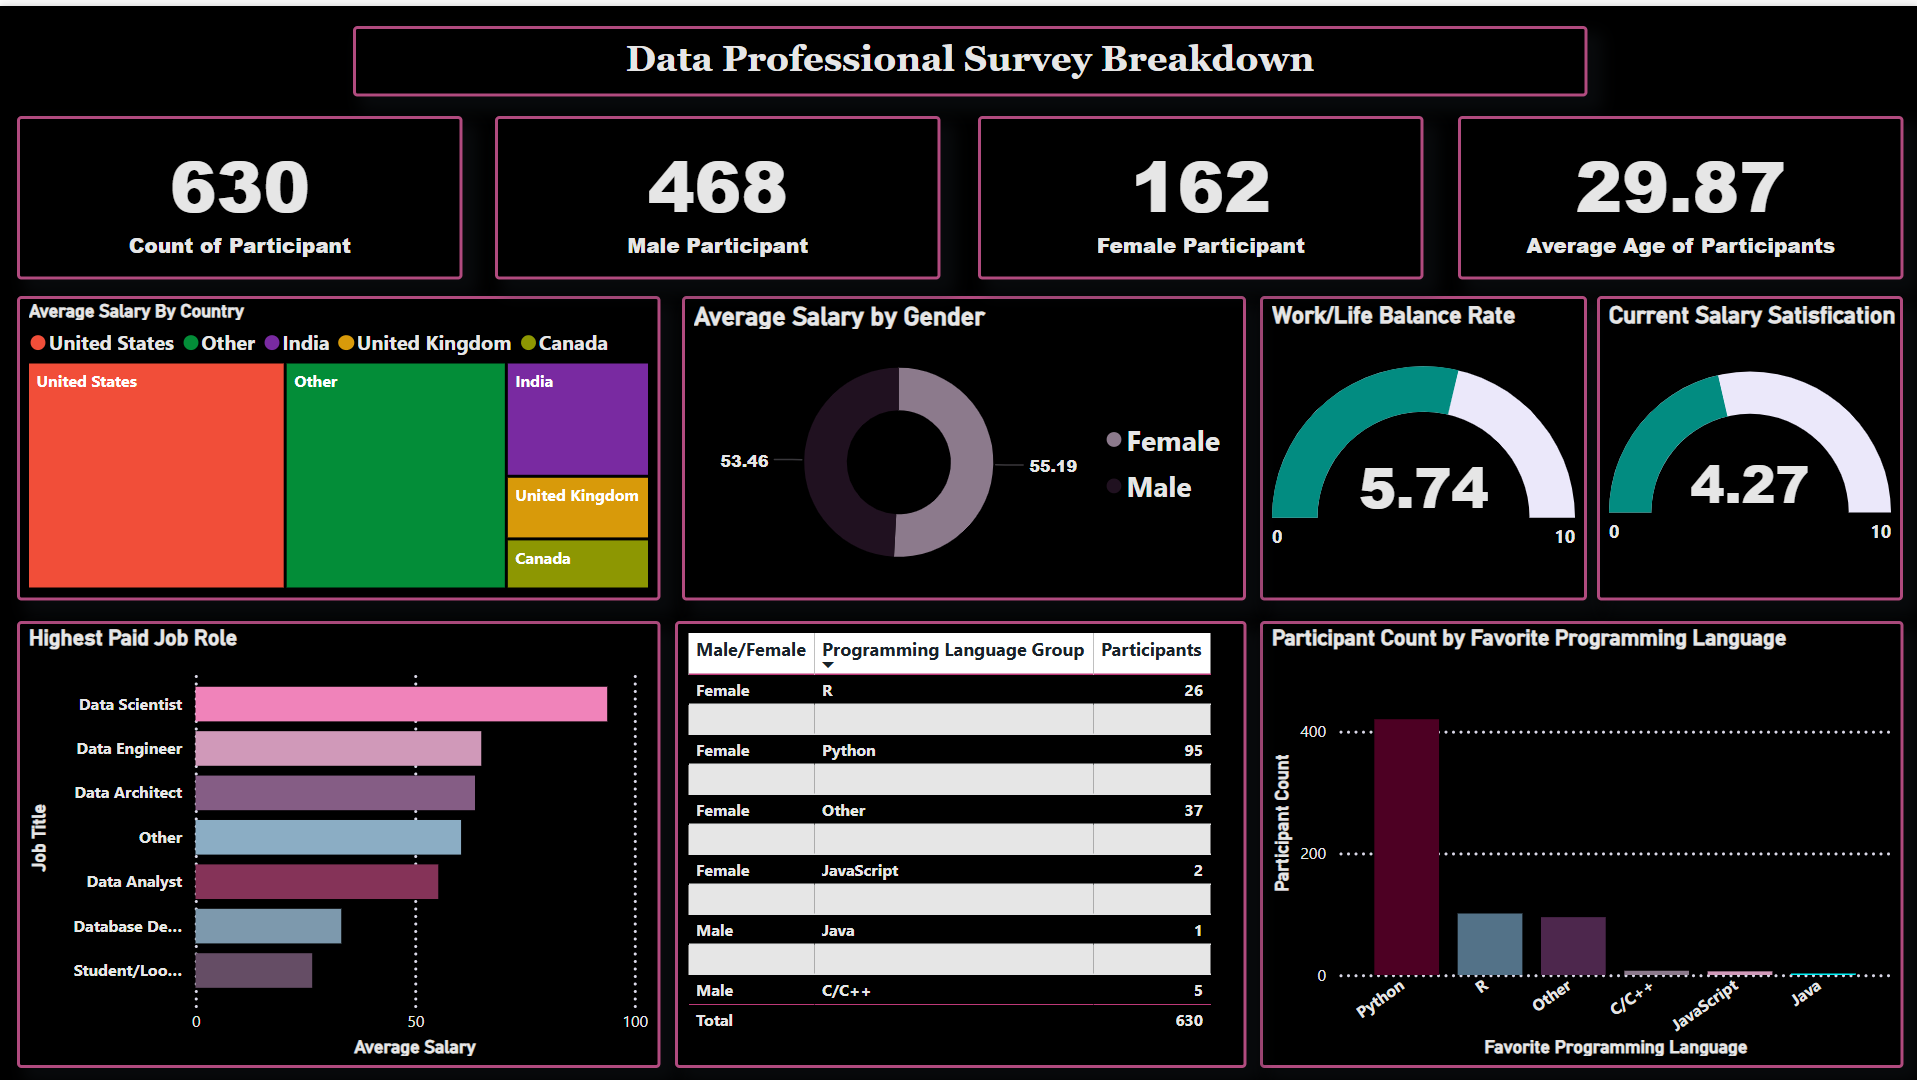

What the dashboard file says about the page in this screenshot:
{"tool":"powerbi","page":{"name":"Page 1","canvas":[1280,720],"ordinal":0},"visuals":[{"type":"textbox","box":[236,13.3,822.7,47.3],"z":0},{"type":"card","fields":{"Values":["Count(Data Professional Survey.Unique ID)"]},"box":[12,73.3,296.7,109.3],"z":1000},{"type":"card","fields":{"Values":["Avg(Data Professional Survey.Q10 - Current Age)"]},"box":[972.7,73.3,296.7,109.3],"z":2000},{"type":"barChart","title":"Highest Paid Job Role","fields":{"Category":["Data Professional Survey.Q1 - Which Title Best Fits your Current Role?.1"],"Y":["Avg(Data Professional Survey.Average Salary)"]},"box":[12,410,428.7,298],"z":3000},{"type":"clusteredColumnChart","fields":{"Y":["CountNonNull(Data Professional Survey.Unique ID)"],"Category":["Data Professional Survey.Q5 - Favorite Programming Language.1.1 (groups)"]},"box":[840.7,410,428.7,298],"z":4000},{"type":"treemap","title":"Average Salary By Country","fields":{"Values":["CountNonNull(Data Professional Survey.Q11 - Which Country do you live in?.1)"],"Group":["Data Professional Survey.Q11 - Which Country do you live in?.1"]},"box":[12,193.3,428.7,202.7],"z":5000},{"type":"gauge","title":"Work/Life Balance Rate","fields":{"Y":["Avg(Data Professional Survey.Q6 - How Happy are you in your Current Position with the following? (Work/Life Balance))"],"MinValue":["Min(Data Professional Survey.Q6 - How Happy are you in your Current Position with the following? (Work/Life Balance))1"],"MaxValue":["Max(Data Professional Survey.Q6 - How Happy are you in your Current Position with the following? (Work/Life Balance))2"]},"box":[840.7,193.3,218,202.7],"z":5001},{"type":"gauge","title":"Current Salary Satisfication","fields":{"Y":["Avg(Data Professional Survey.Q6 - How Happy are you in your Current Position with the following? (Salary))"],"MinValue":["Min(Data Professional Survey.Q6 - How Happy are you in your Current Position with the following? (Salary))"],"MaxValue":["Max(Data Professional Survey.Q6 - How Happy are you in your Current Position with the following? (Salary))"]},"box":[1065.3,193.3,204,202.7],"z":5002},{"type":"donutChart","title":" Average Salary by Gender","fields":{"Category":["Data Professional Survey.Q9 - Male/Female?"],"Y":["Avg(Data Professional Survey.Average Salary)"]},"box":[455.3,193.3,376,202.7],"z":5003},{"type":"card","fields":{"Values":["Data Professional Survey.Male Participant"]},"box":[330.7,73.3,296.7,109.3],"z":5004},{"type":"card","fields":{"Values":["Data Professional Survey.Female Participant"]},"box":[652.7,73.3,296.7,109.3],"z":5005},{"type":"tableEx","fields":{"Values":["Data Professional Survey.Q9 - Male/Female?","Data Professional Survey.Q5 - Favorite Programming Language.1.1 (groups)","Data Professional Survey.Unique ID"]},"box":[450.7,410,380.7,298],"z":5006}]}

Visuals, with their boxes in screenshot pixels (x1, y1, x2, y2), scaled from the page's 1280x720 canvas onto the 1917x1080 screenshot:
textbox: [353,20,1586,91]
card - Count(Data Professional Survey.Unique ID): [18,110,462,274]
card - Avg(Data Professional Survey.Q10 - Current Age): [1457,110,1901,274]
"Highest Paid Job Role" barChart: [18,615,660,1062]
clusteredColumnChart - CountNonNull(Data Professional Survey.Unique ID) x Data Professional Survey.Q5 - Favorite Programming Language.1.1 (groups): [1259,615,1901,1062]
"Average Salary By Country" treemap: [18,290,660,594]
"Work/Life Balance Rate" gauge: [1259,290,1586,594]
"Current Salary Satisfication" gauge: [1595,290,1901,594]
" Average Salary by Gender" donutChart: [682,290,1245,594]
card - Data Professional Survey.Male Participant: [495,110,940,274]
card - Data Professional Survey.Female Participant: [978,110,1422,274]
tableEx - Data Professional Survey.Q9 - Male/Female? x Data Professional Survey.Q5 - Favorite Programming Language.1.1 (groups): [675,615,1245,1062]
